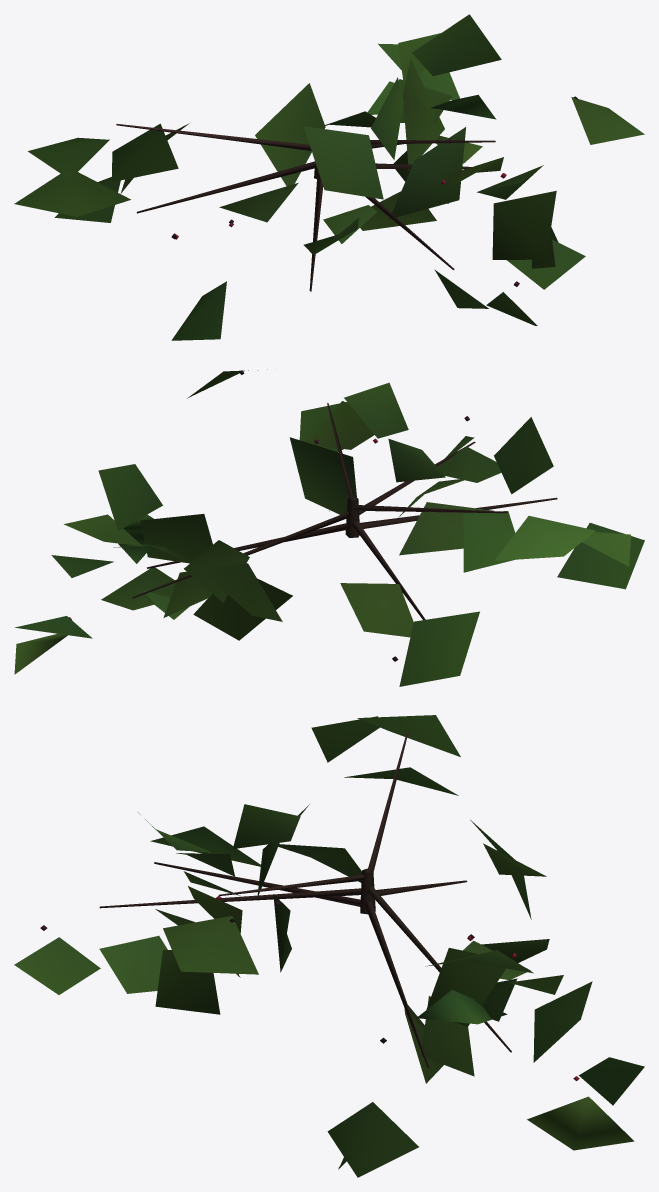
File: bush-bramble-a.lod2.glb
The picture shows the model from 3 angles, top to bottom: view 1: azimuth 30°, elevation 25°; view 2: azimuth 150°, elevation 25°; view 3: azimuth 270°, elevation 25°; orthographic projection. The views are drawn at different scales.
Parts seen in each view (by area): view 1: bush-bramble-a.lod2; view 2: bush-bramble-a.lod2; view 3: bush-bramble-a.lod2.
Boxes of the visible parts, x1=… form: bush-bramble-a.lod2: x1=14, y1=14, x2=644, y2=340; bush-bramble-a.lod2: x1=14, y1=369, x2=644, y2=686; bush-bramble-a.lod2: x1=14, y1=715, x2=644, y2=1177.
Bounding box in the file's own units: 2.76 × 1.25 × 2.62.
